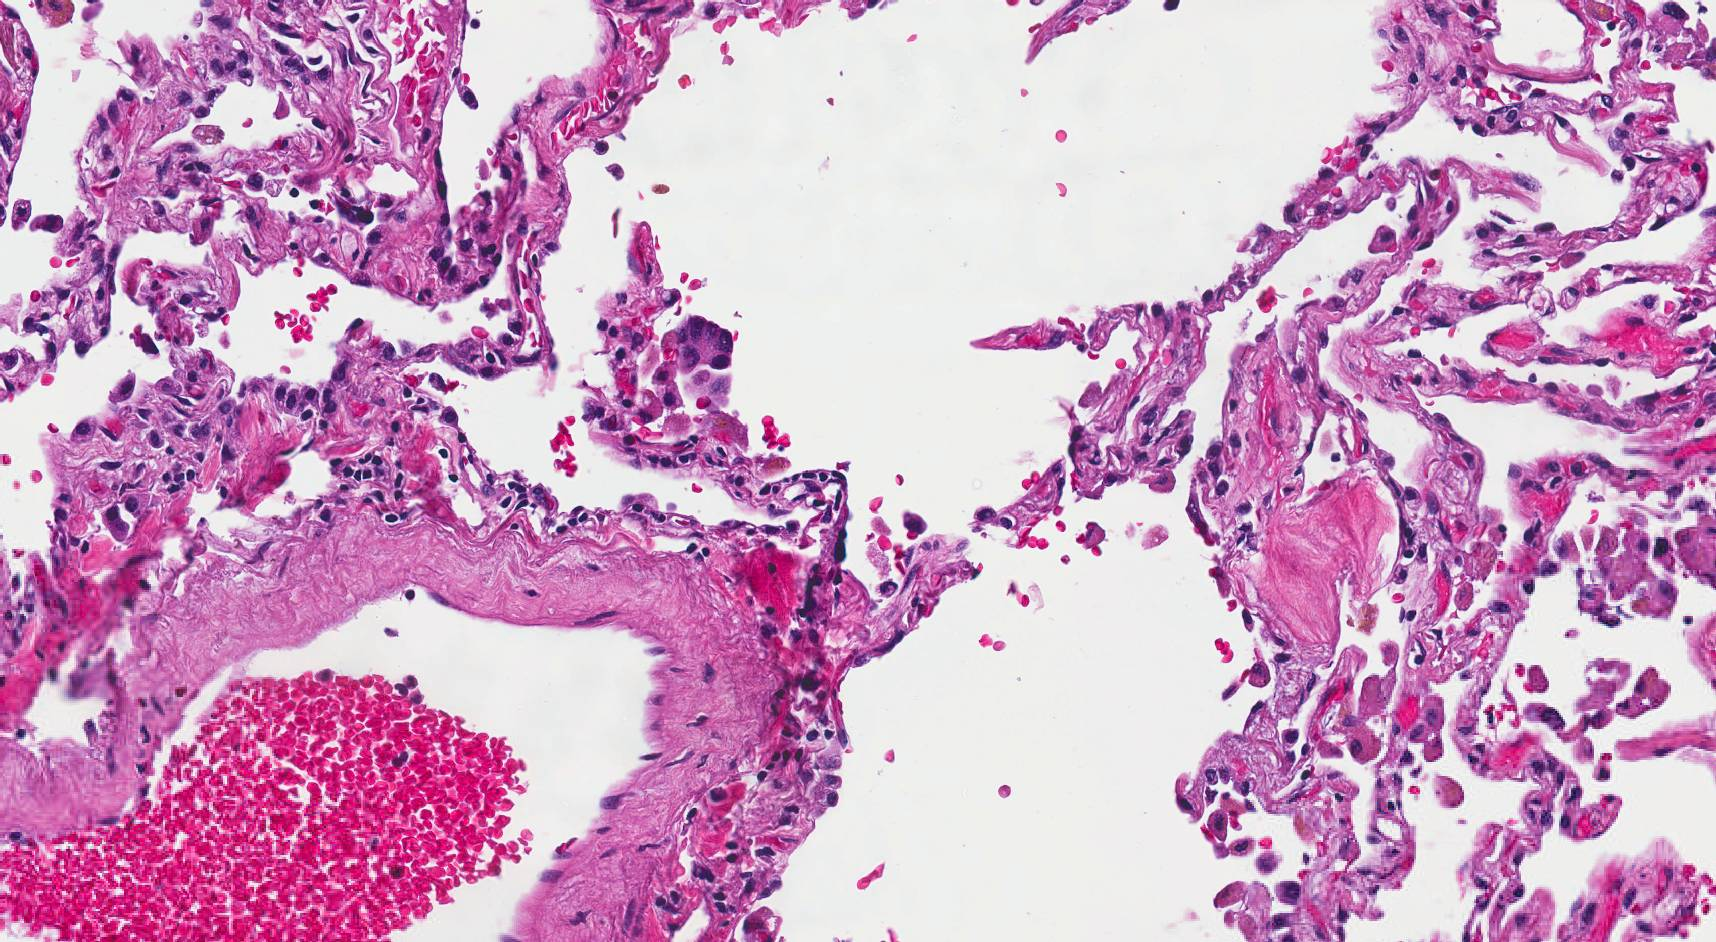stas: (658, 312, 734, 372)
